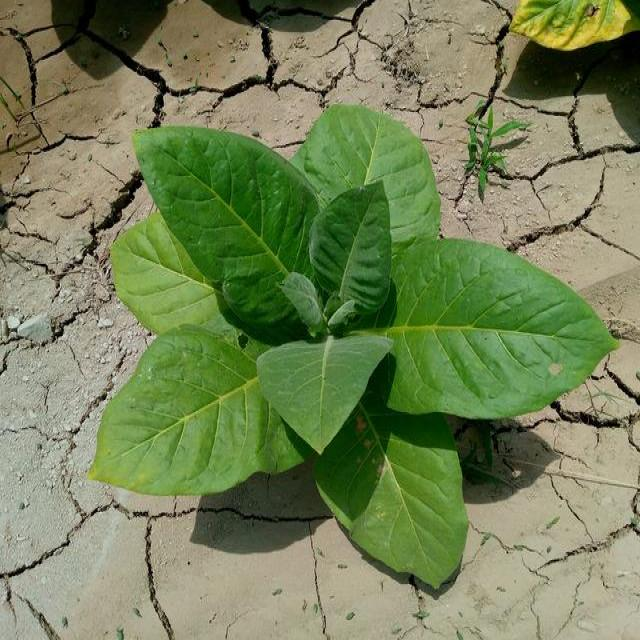crop: (89, 108, 615, 589)
